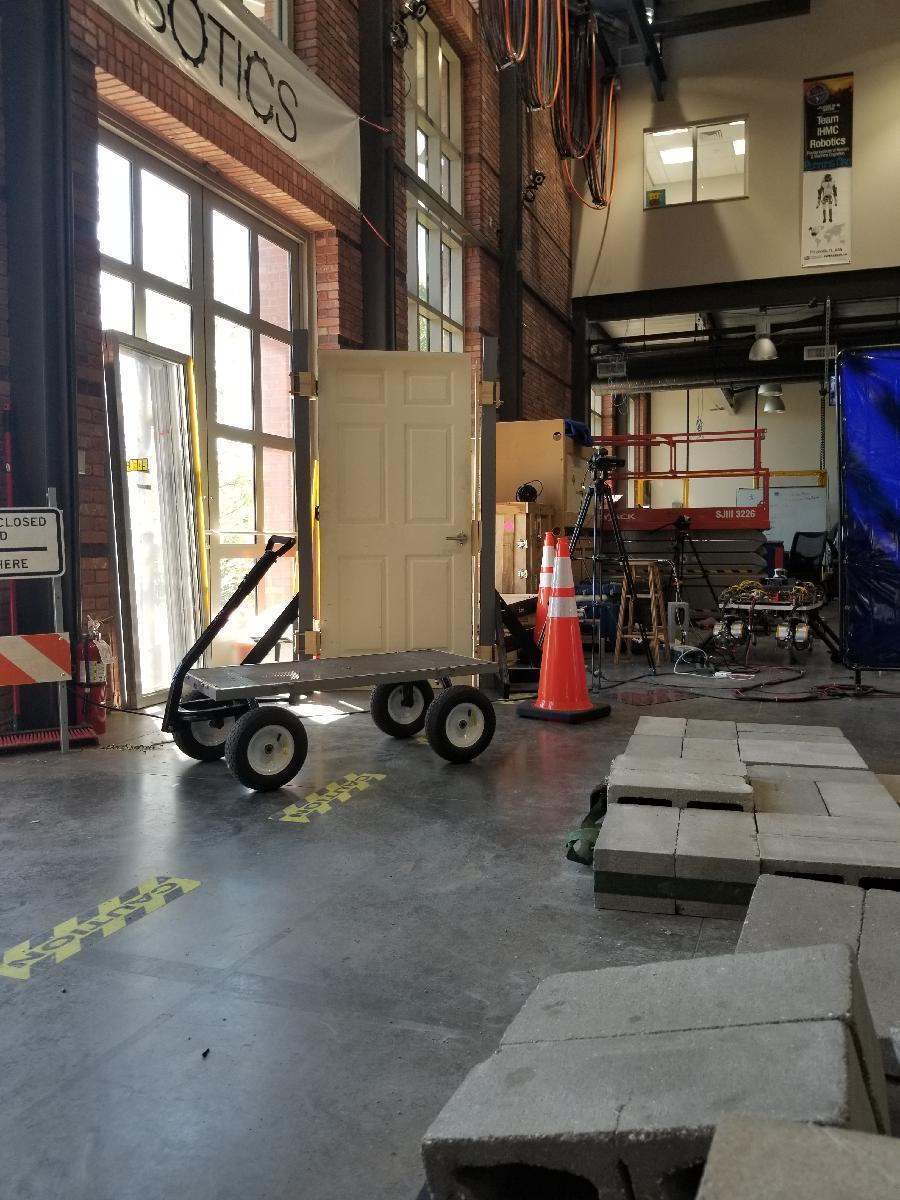door: (324, 343, 482, 693)
handle: (443, 530, 470, 547)
